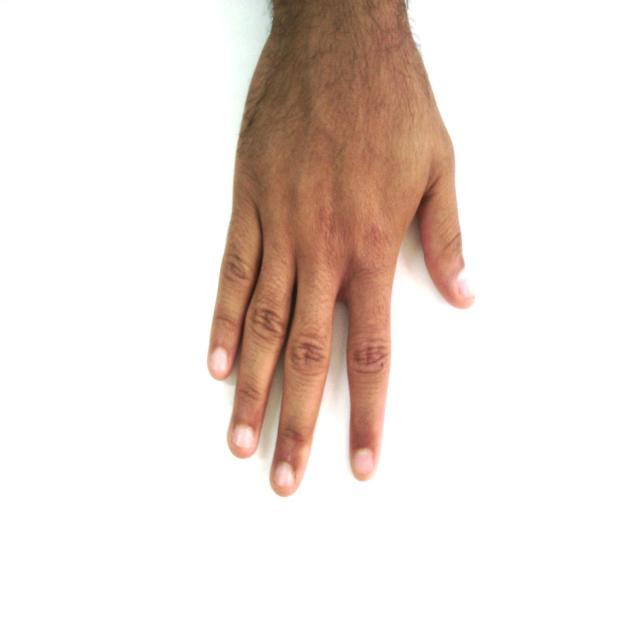Fingernail: (274, 464, 294, 490), (354, 449, 373, 476), (234, 427, 254, 449), (211, 349, 228, 374), (458, 276, 474, 299)
